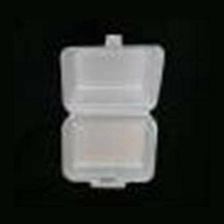foam_box: (51, 30, 170, 196)
